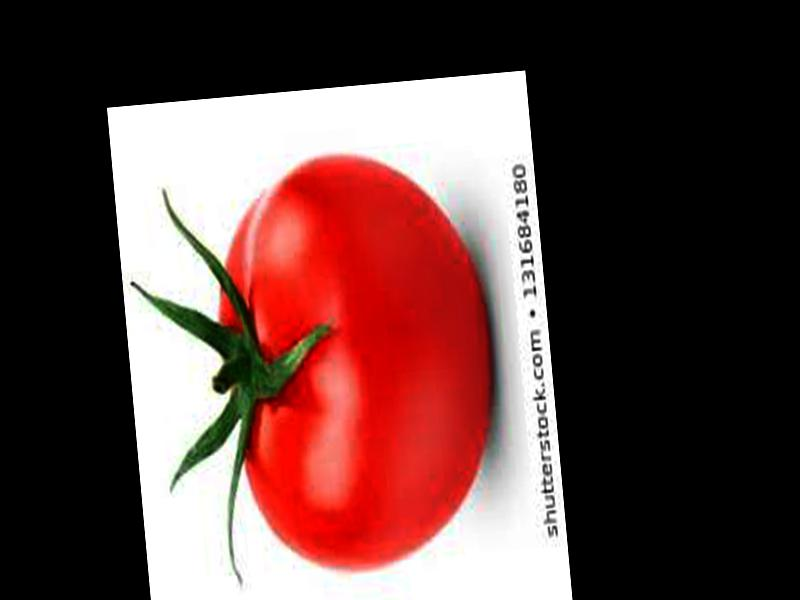Tomato: (208, 142, 505, 579)
